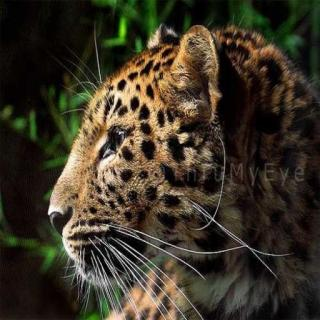Leopard: (63, 29, 320, 320)
